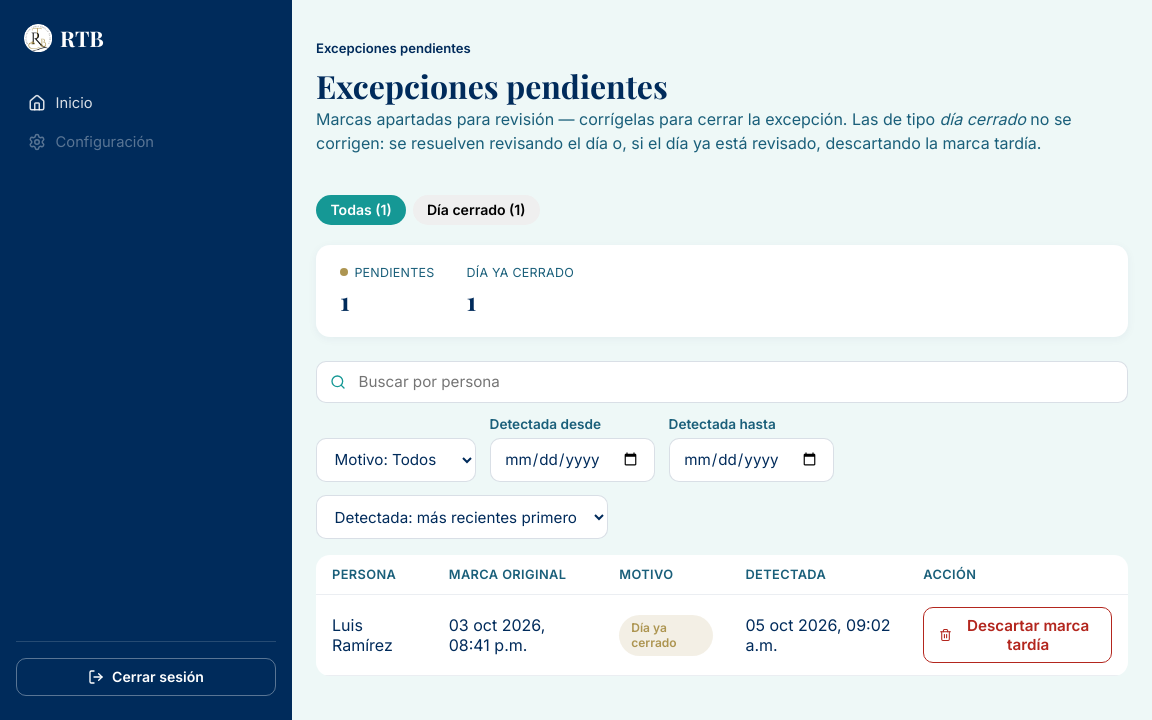
Test: ColaExcepcionesPage › excepciones de día cerrado › camino descartar con permiso: botón que abre el modal y, al descartar, recarga la lista
Click the button "Descartar marca tardía": x=1018, y=635 [923, 607, 1112, 663]
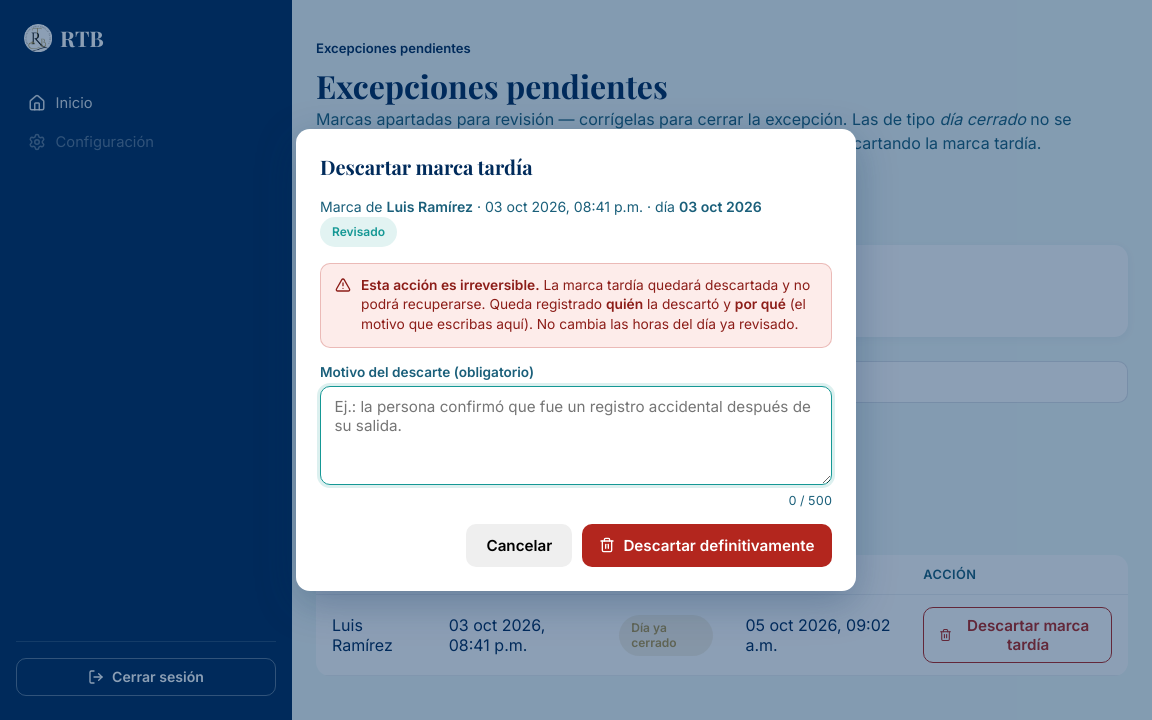
Now the dialog "Descartar marca tardía" is shown, box [296, 129, 856, 591]
In the text box labelled "Motivo del descarte (obligatorio)": x=576, y=435 [320, 386, 832, 485], type "Registro accidental."
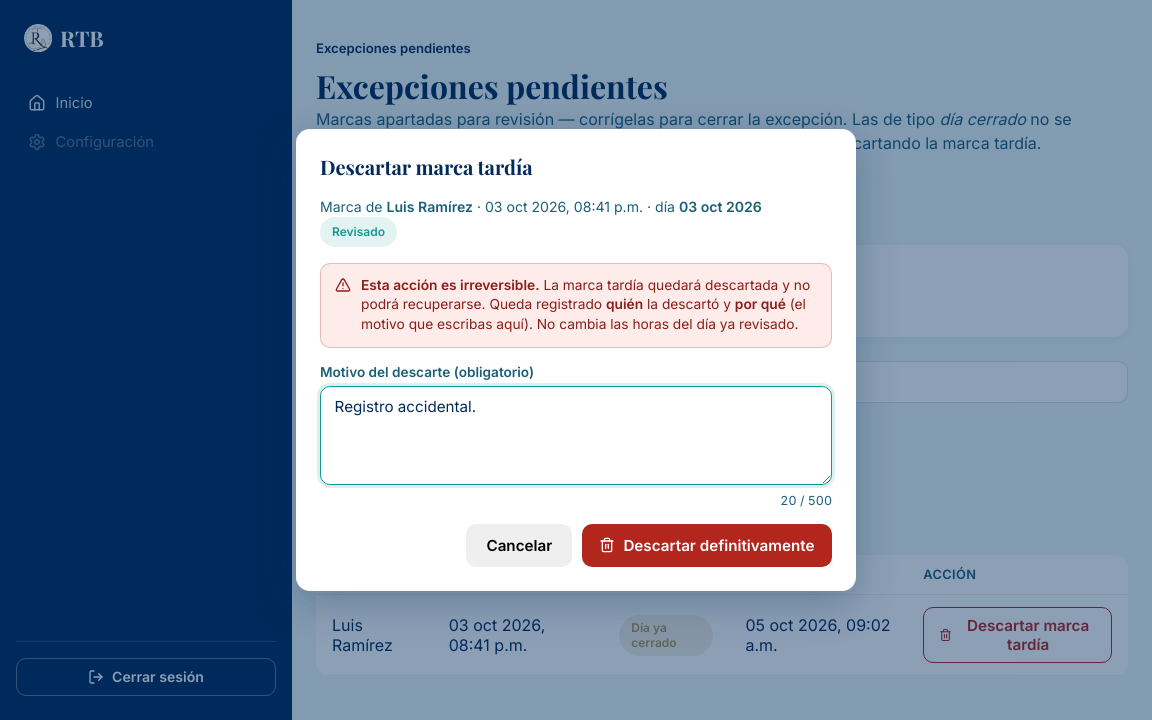
Click the button "Descartar definitivamente": x=707, y=545 [582, 524, 832, 567]
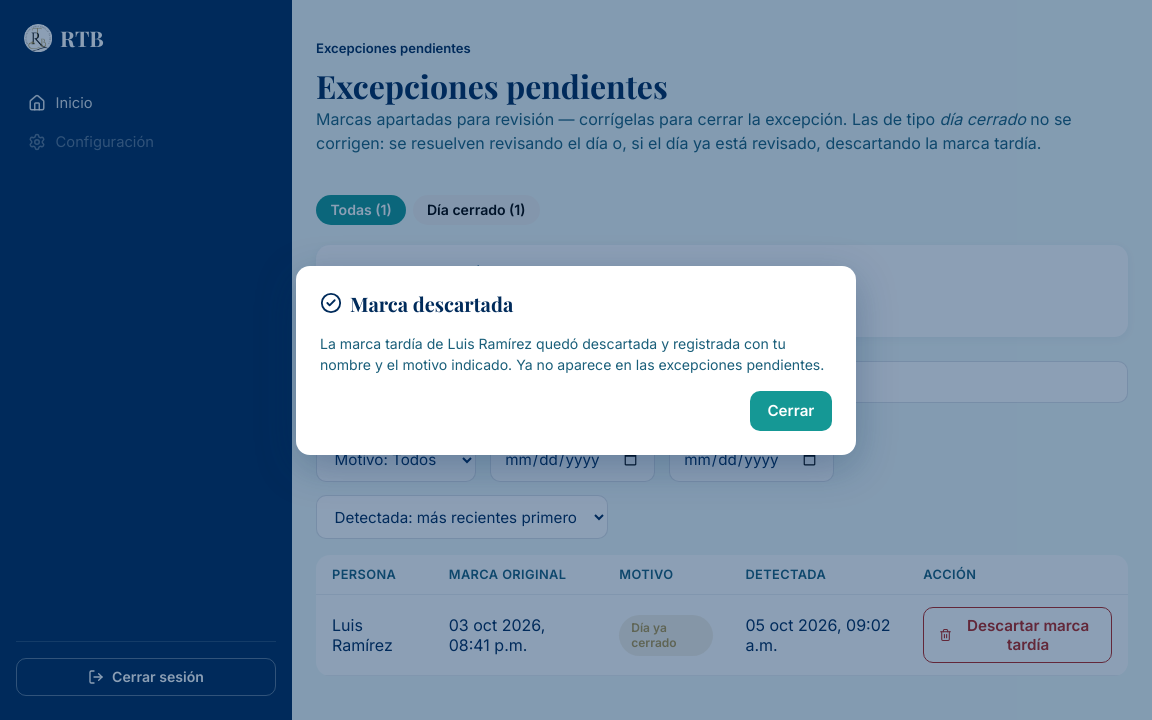
Click the button "Cerrar": x=791, y=411 [750, 391, 832, 430]
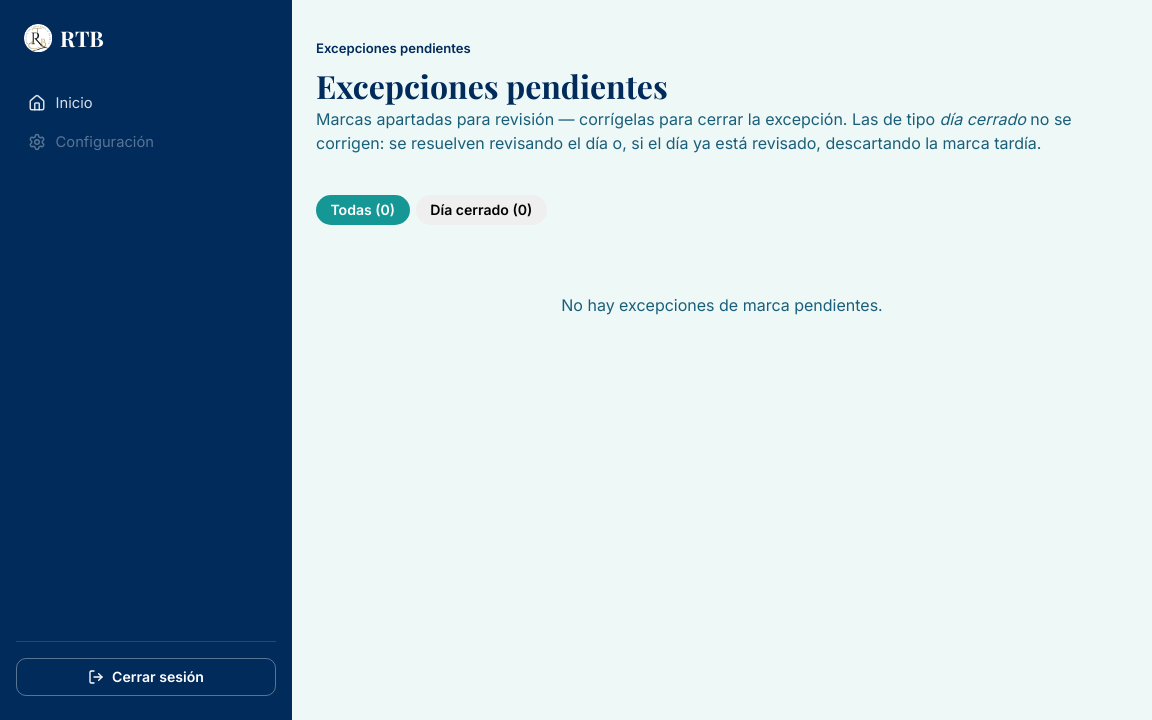
Now the text "No hay excepciones de marca pendientes." is shown, box [561, 293, 883, 317]
Now the dialog is gone
